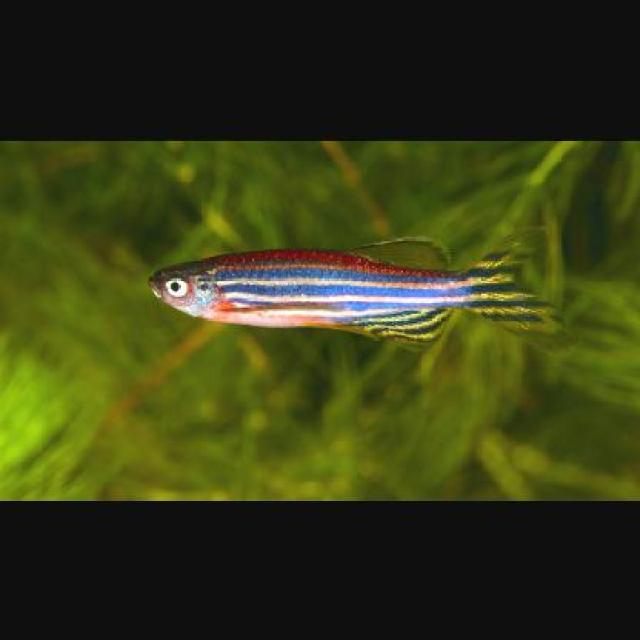ZebraFish: (146, 218, 571, 354)
